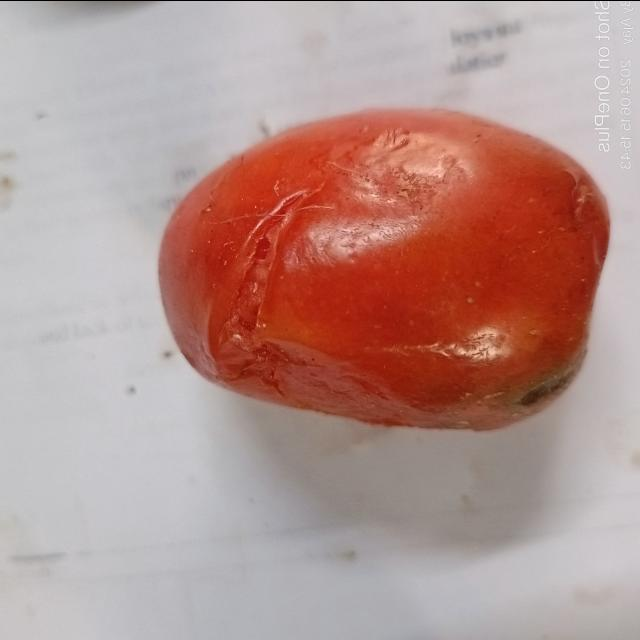Botrytis: (212, 178, 301, 386)
